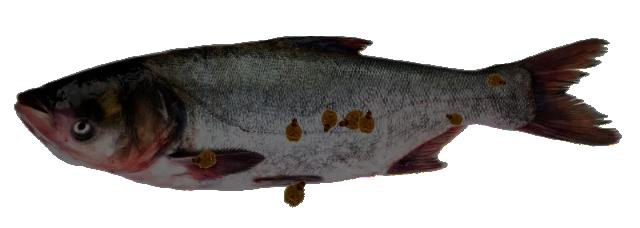Parasitic Disease: (15, 37, 619, 204), (15, 37, 618, 204)
